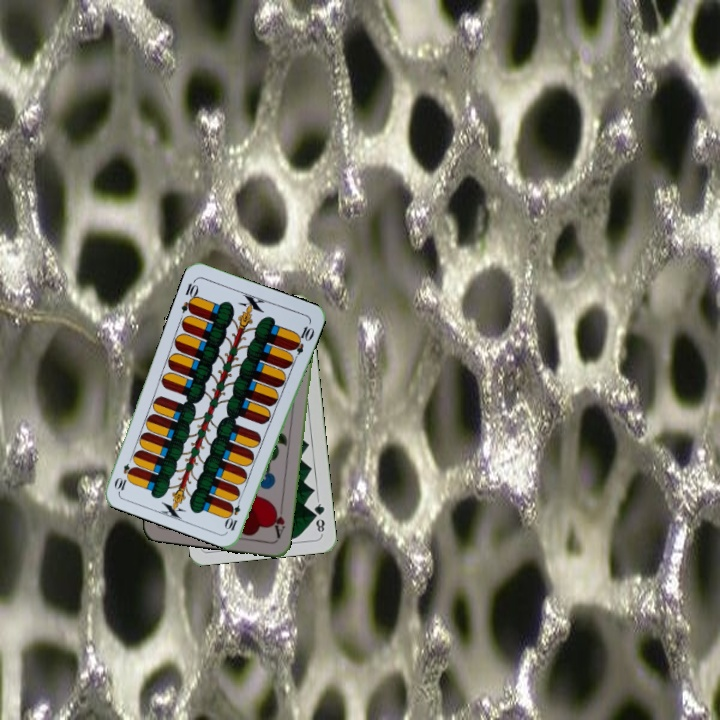E10: (177, 276, 201, 316), (222, 493, 244, 533)
G8: (310, 496, 327, 537)
HA: (269, 501, 287, 541)
